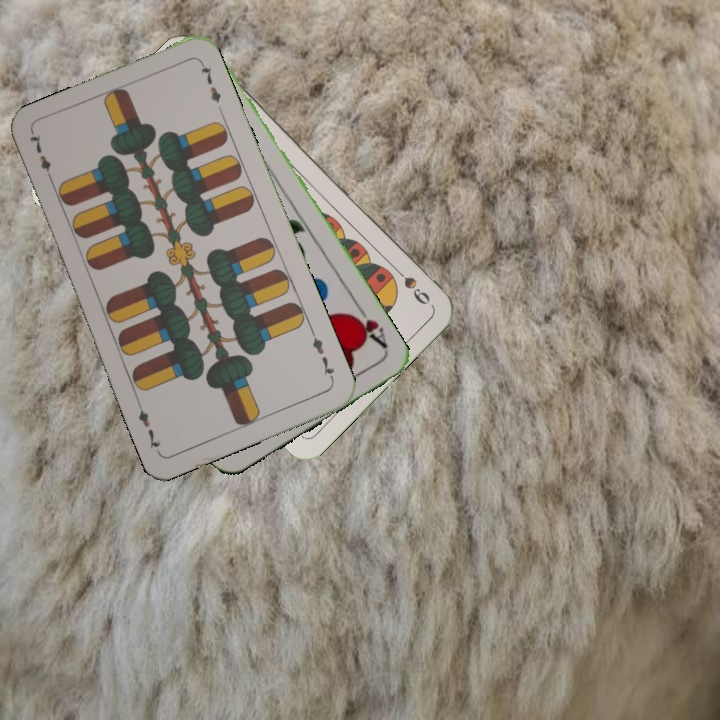E7: (25, 129, 56, 186), (307, 327, 337, 384)
HA: (346, 300, 390, 352)
S9: (387, 260, 433, 308)
